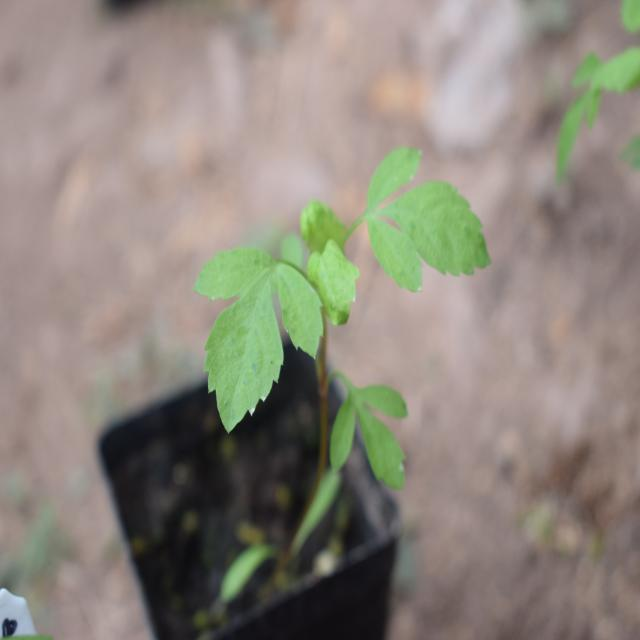Bidens pilosa: (174, 122, 502, 500)
